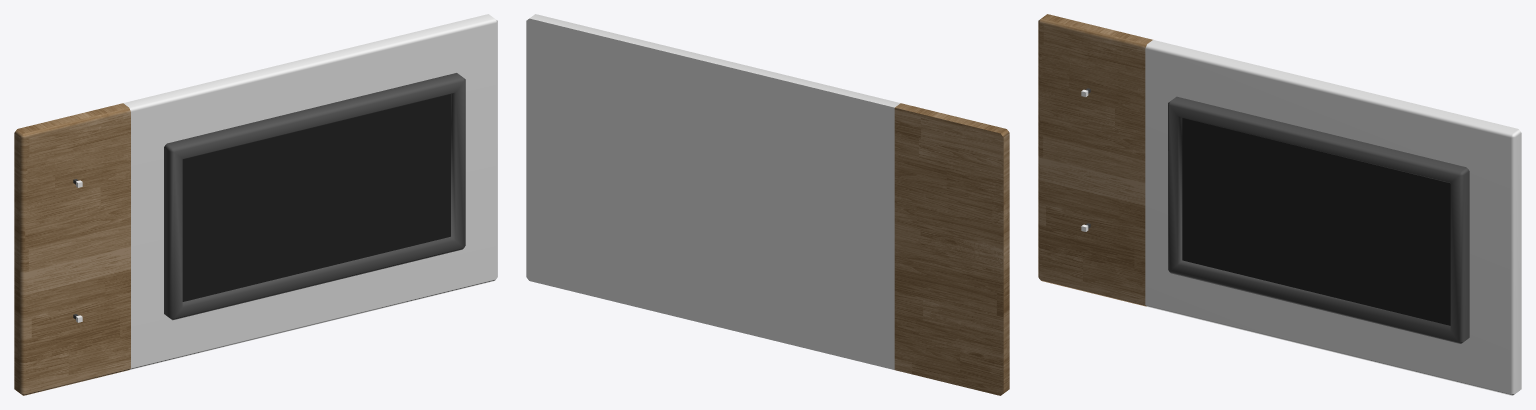
File: wall_cabinet_018.fbx
The picture shows the model from 3 angles, left to right: view 1: azimuth 30°, elevation 25°; view 2: azimuth 150°, elevation 25°; view 3: azimuth 330°, elevation 25°; orthographic projection.
Visible parts, largest first — view 1: wall_cabinet_018; view 2: wall_cabinet_018; view 3: wall_cabinet_018.
Boxes of the visible parts, x1,y1,x2,y2 form: wall_cabinet_018: (14, 14, 497, 395); wall_cabinet_018: (526, 14, 1009, 395); wall_cabinet_018: (1038, 14, 1521, 395).
Bounding box in the file's own units: 319 × 20.43 × 168.
